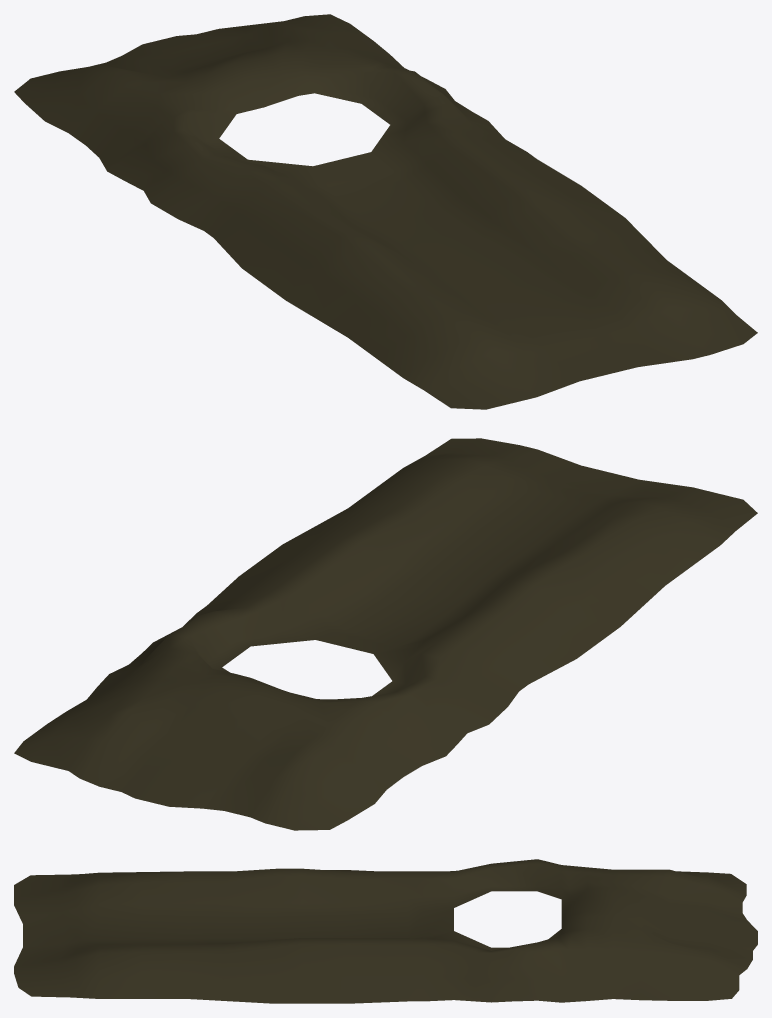
Rendered from Ground_NLO.fbx.
3 renders of one model, top to bottom at view 1: azimuth 30°, elevation 25°; view 2: azimuth 150°, elevation 25°; view 3: azimuth 270°, elevation 25°, orthographic. The views are drawn at different scales.
Parts seen in each view (by area): view 1: Rectangle001; view 2: Rectangle001; view 3: Rectangle001.
Boxes of the visible parts, x1=… form: Rectangle001: x1=14, y1=14, x2=757, y2=409; Rectangle001: x1=14, y1=438, x2=757, y2=830; Rectangle001: x1=14, y1=859, x2=757, y2=1003.
Size of the model in its own units: 3727 by 479 by 8709.
